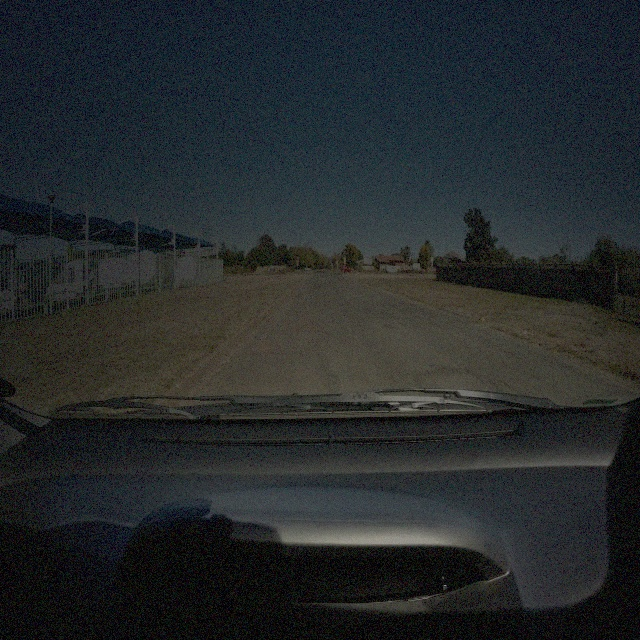pothole: (300, 321, 319, 334), (258, 342, 274, 354)
